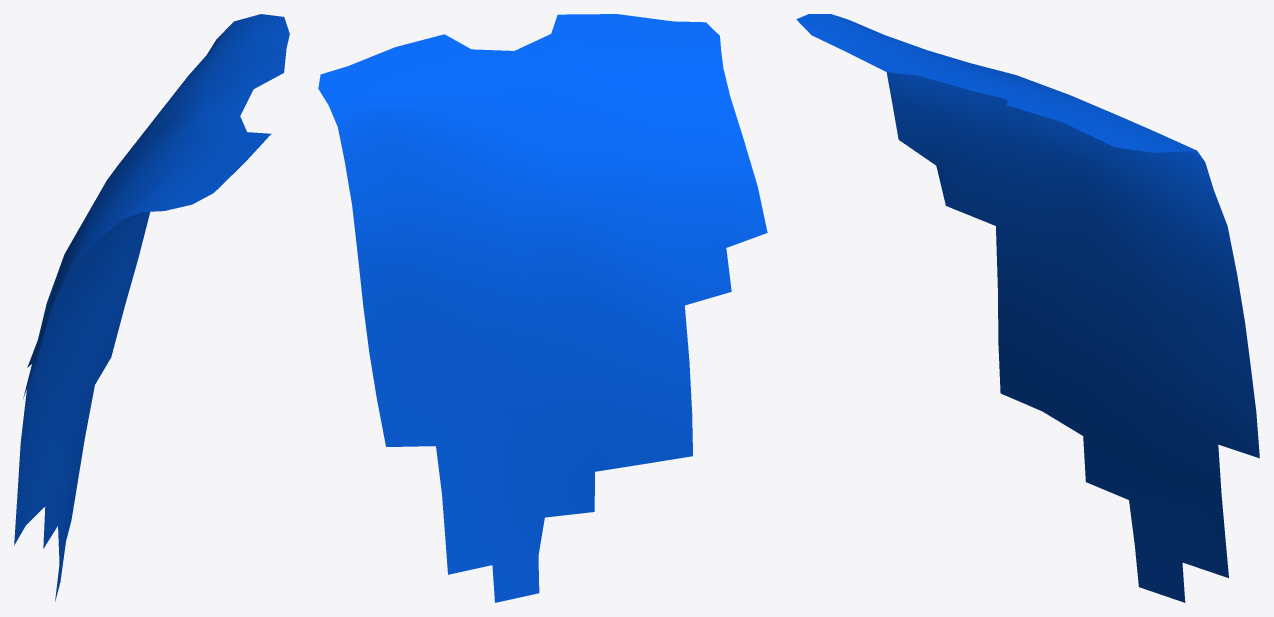
The model's file is rope.fbx.
3 renders of one model, left to right at view 1: azimuth 30°, elevation 25°; view 2: azimuth 150°, elevation 25°; view 3: azimuth 270°, elevation 25°, orthographic. The views are drawn at different scales.
Parts seen in each view (by area): view 1: NettingBake; view 2: NettingBake; view 3: NettingBake.
Part boxes in pixels (box(x1,y1,x2,y2)): NettingBake: box(14, 14, 289, 601); NettingBake: box(318, 14, 767, 602); NettingBake: box(796, 14, 1259, 602).
Bounding box in the file's own units: 1060 × 1442 × 1063.
